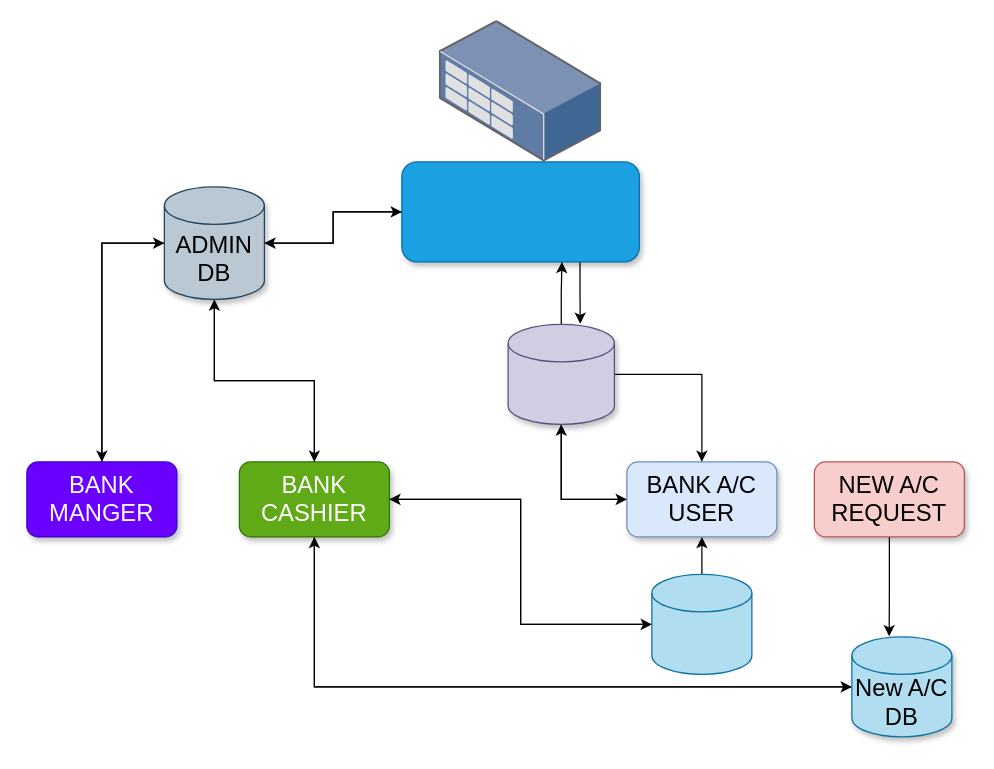
Some shapes in this 994 by 769 pixel diagram are drawn without their labels. The centre of each missing label's shape, as x and y in pixels:
A/C DB: point (562, 375)
SKA BANK SERVER: point (521, 213)
Transactions: point (701, 623)
